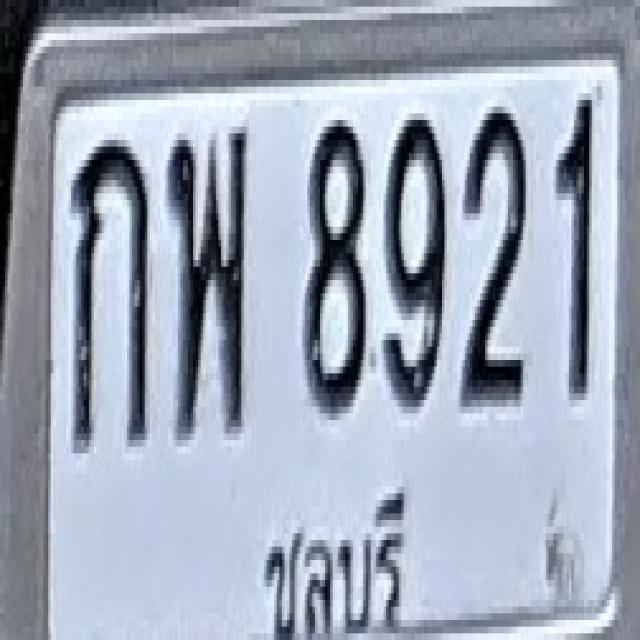1: (555, 93, 593, 400)
2: (460, 104, 526, 404)
8: (302, 114, 366, 414)
9: (384, 113, 444, 407)
A01: (71, 137, 147, 450)
A30: (166, 123, 248, 437)
CBI: (259, 472, 412, 640)
